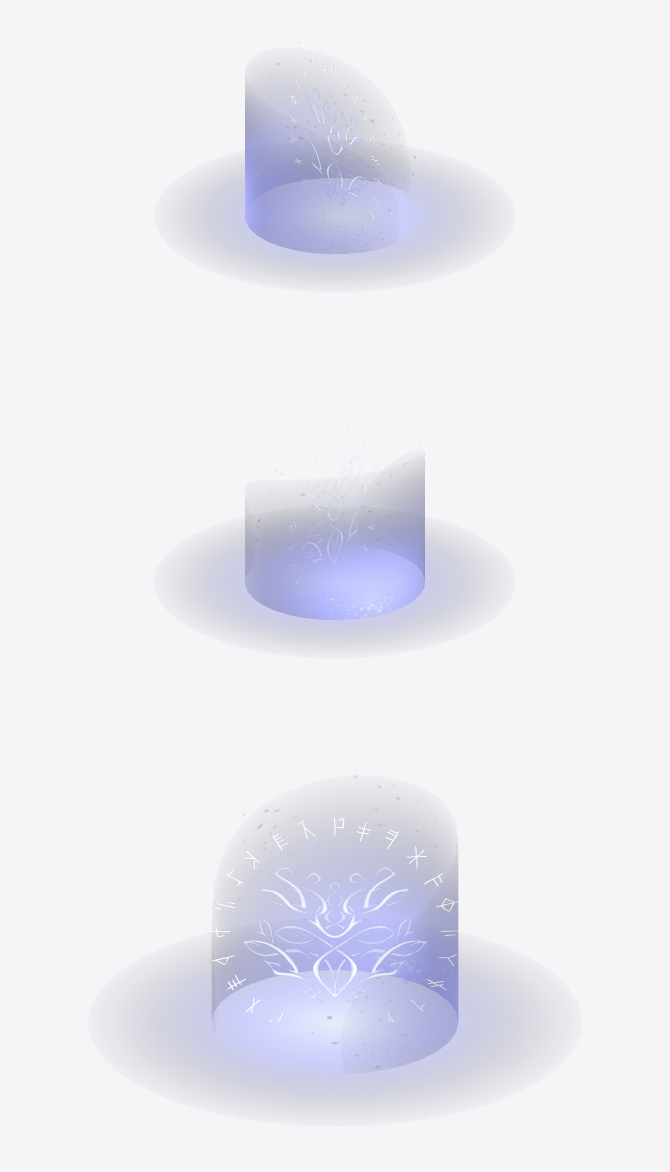
File: barier.gltf
3 views of the same model, one above another, from view 1: azimuth 30°, elevation 25°; view 2: azimuth 150°, elevation 25°; view 3: azimuth 270°, elevation 25° (orthographic). The views are drawn at different scales.
Parts seen in each view (by area): view 1: Plane.005; view 2: Plane.005; view 3: Plane.005.
Boxes of the visible parts, x1=… form: Plane.005: x1=194, y1=59, x2=476, y2=275; Plane.005: x1=193, y1=425, x2=475, y2=641; Plane.005: x1=142, y1=776, x2=527, y2=1103.
Bounding box in the file's own units: 6.97 × 3.02 × 6.97.
4 materials, 4 textured.
